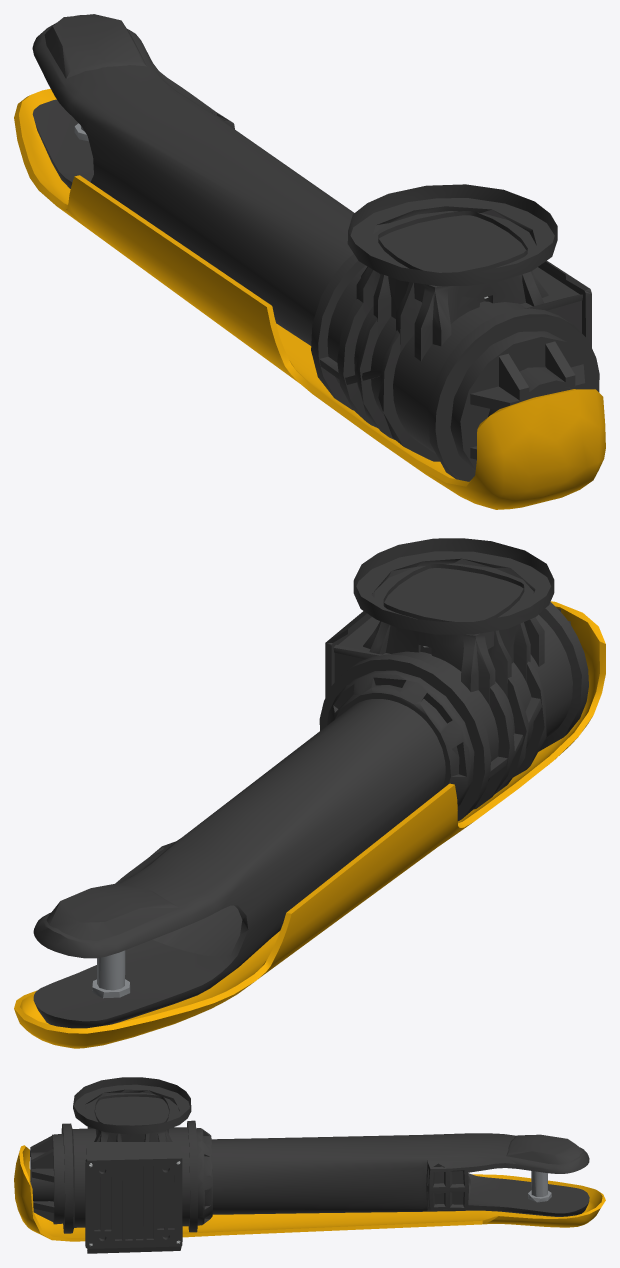
Rendered from fr_upper_leg.obj.
The picture shows the model from 3 angles, top to bottom: view 1: azimuth 30°, elevation 25°; view 2: azimuth 150°, elevation 25°; view 3: azimuth 270°, elevation 25°; orthographic projection. The views are drawn at different scales.
Visible parts, largest first — view 1: fr_upper_leg; view 2: fr_upper_leg; view 3: fr_upper_leg.
Part boxes in pixels (x1,y1,x2,y2): fr_upper_leg: (14, 14, 605, 509); fr_upper_leg: (14, 538, 605, 1048); fr_upper_leg: (14, 1077, 605, 1253).
Bounding box in the file's own units: 0.0745 × 0.0804 × 0.3276.
